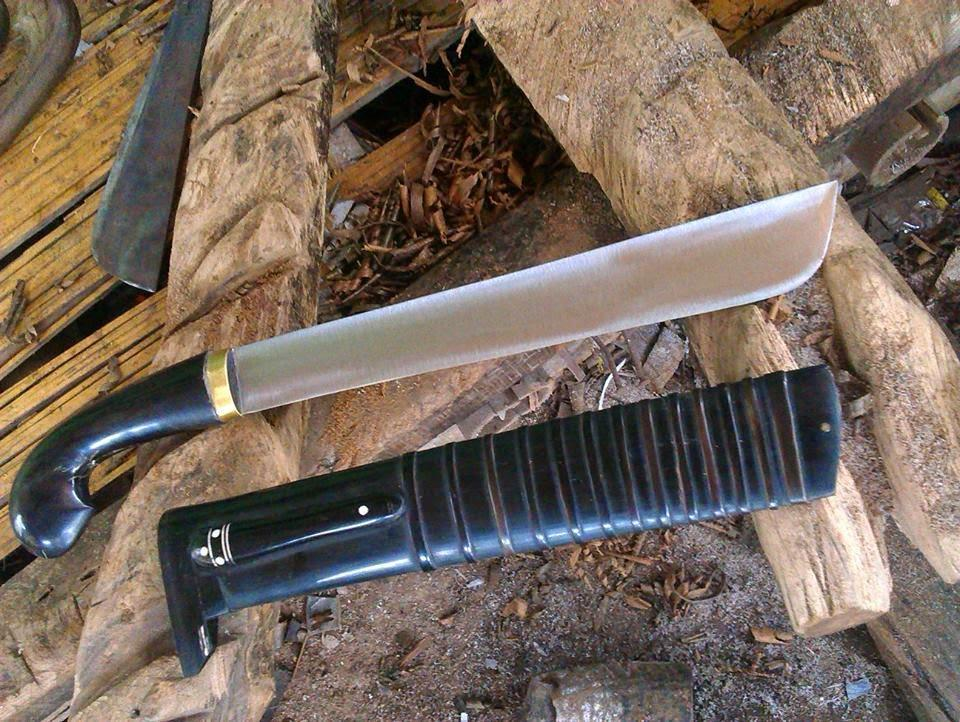facao: (10, 182, 838, 556), (92, 0, 211, 291)
